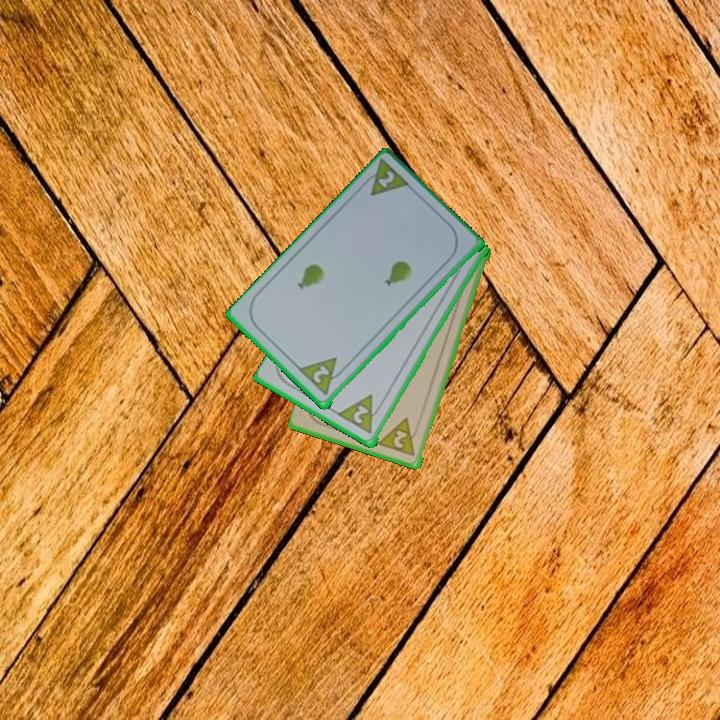2p: (376, 414, 422, 459), (309, 362, 333, 386), (374, 167, 398, 191), (349, 402, 372, 427)
